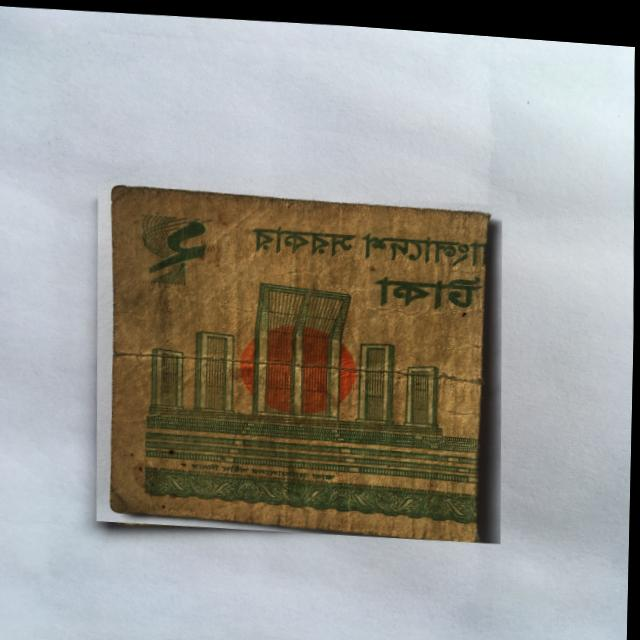Taka: (93, 173, 509, 542)
